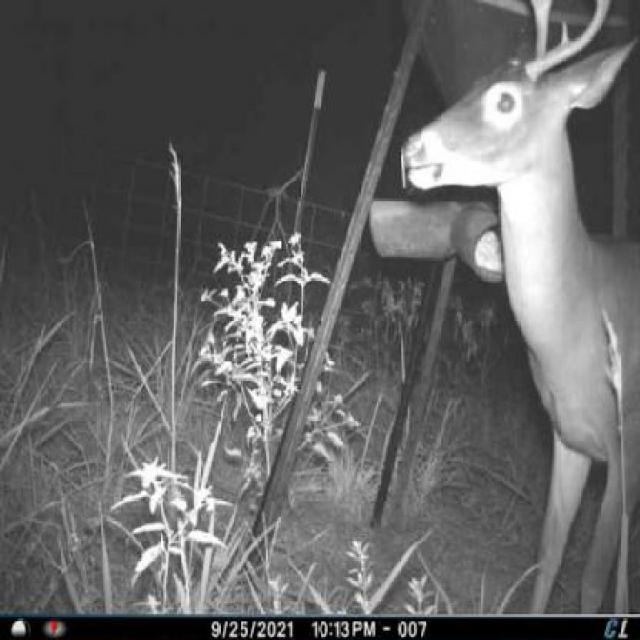Deer: (376, 0, 638, 617)
